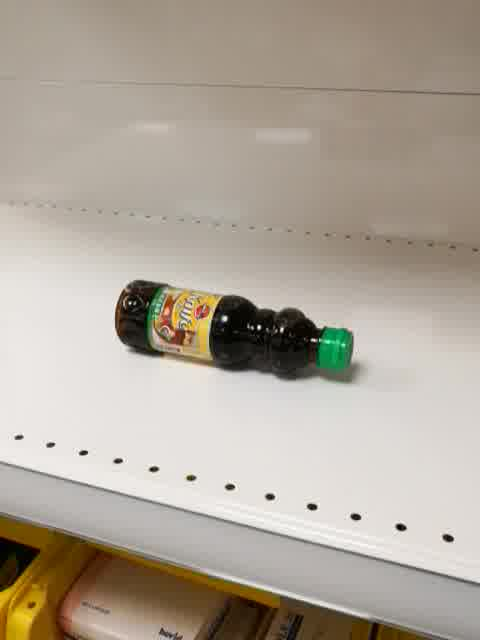cookingoil: (111, 277, 355, 380)
